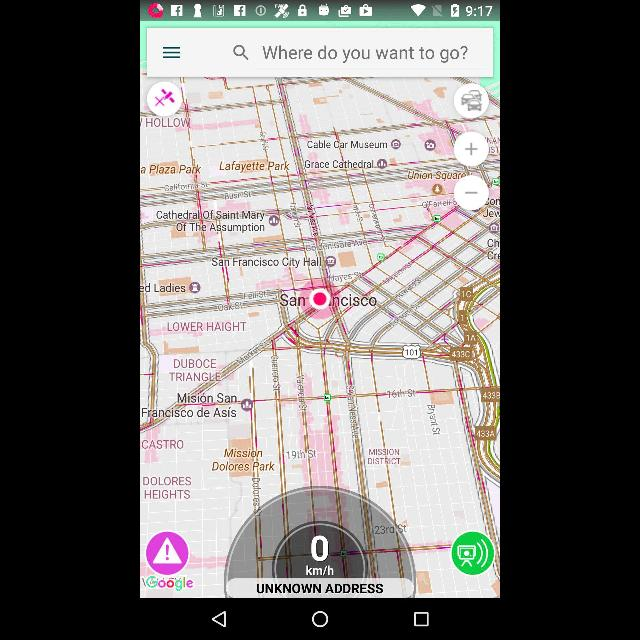icon: (312, 611, 328, 627), (162, 46, 180, 60), (212, 611, 226, 627), (234, 46, 248, 60), (414, 612, 428, 626)
input: (148, 29, 492, 77)
map: (141, 77, 499, 598)
panel: (141, 599, 499, 639)
uppertaskbar: (140, 0, 500, 20)
